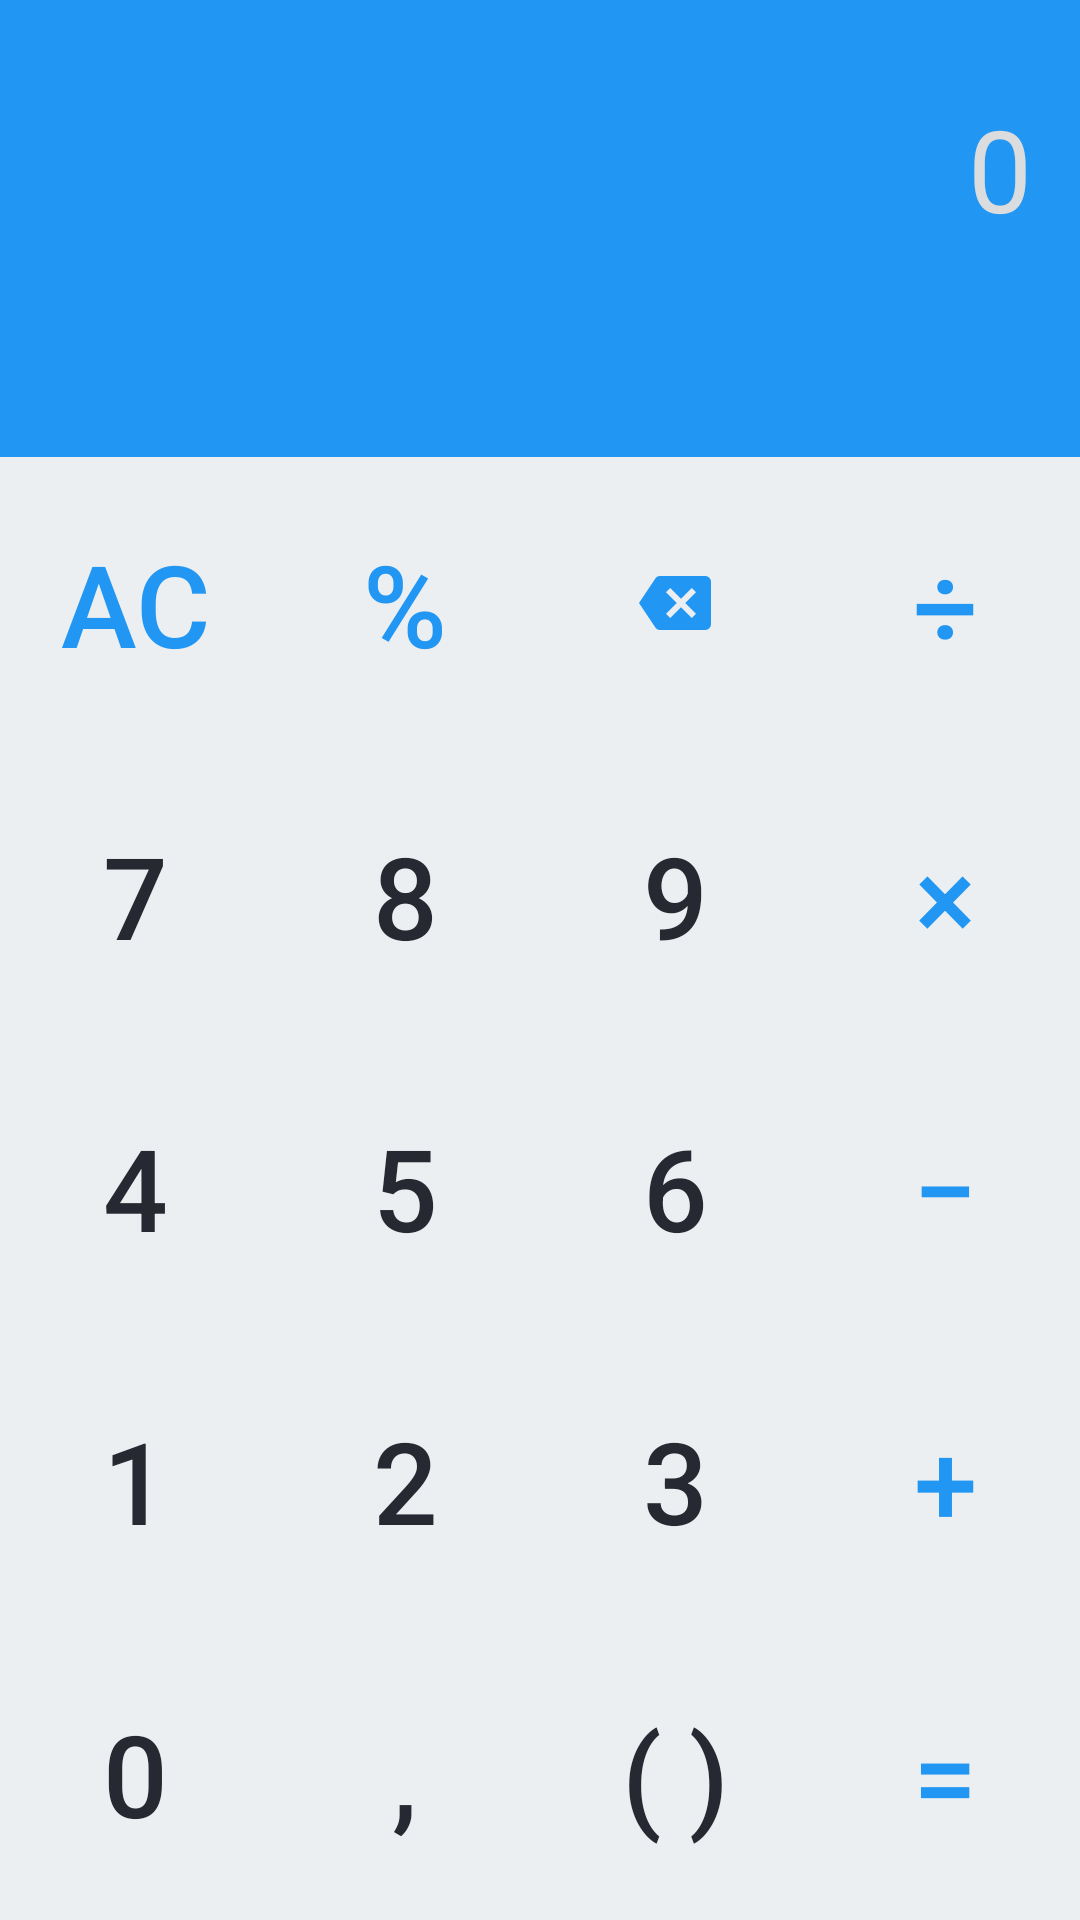

Where to tap for icons on this 1080 x 1920 app screen, as (x=x, y=y):
backspace: (x=675, y=603)
